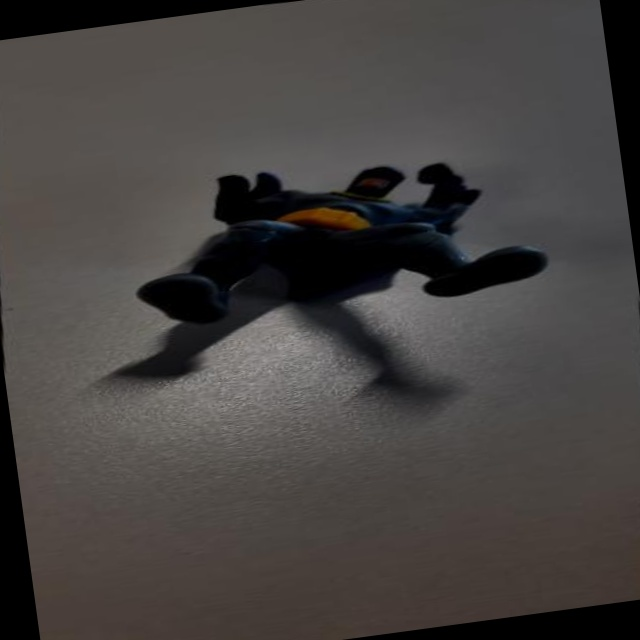Batman: (114, 126, 557, 341)
